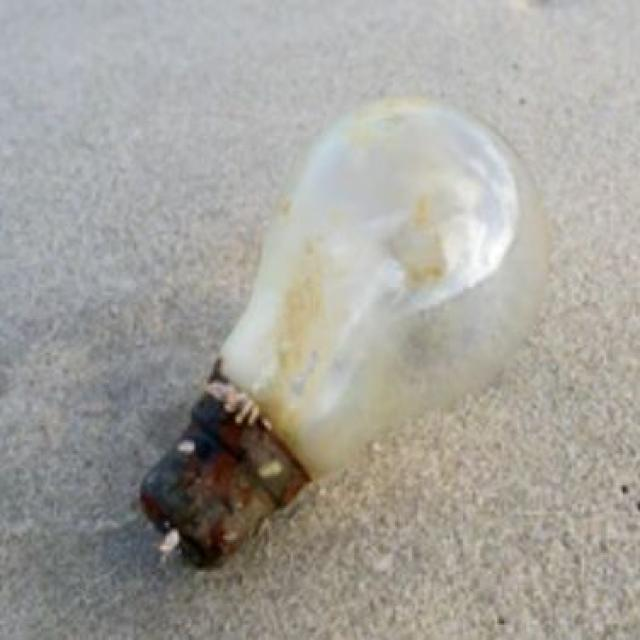electronic: (138, 91, 551, 568)
